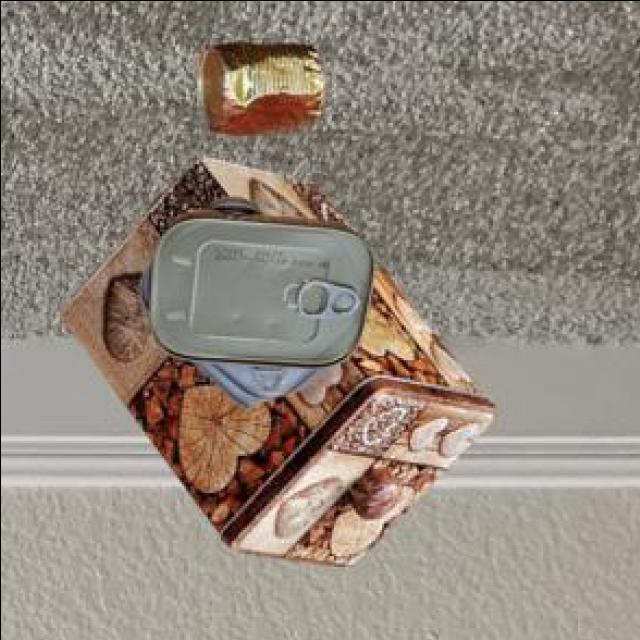logam: (64, 160, 497, 569), (143, 199, 378, 408), (199, 47, 328, 136)
